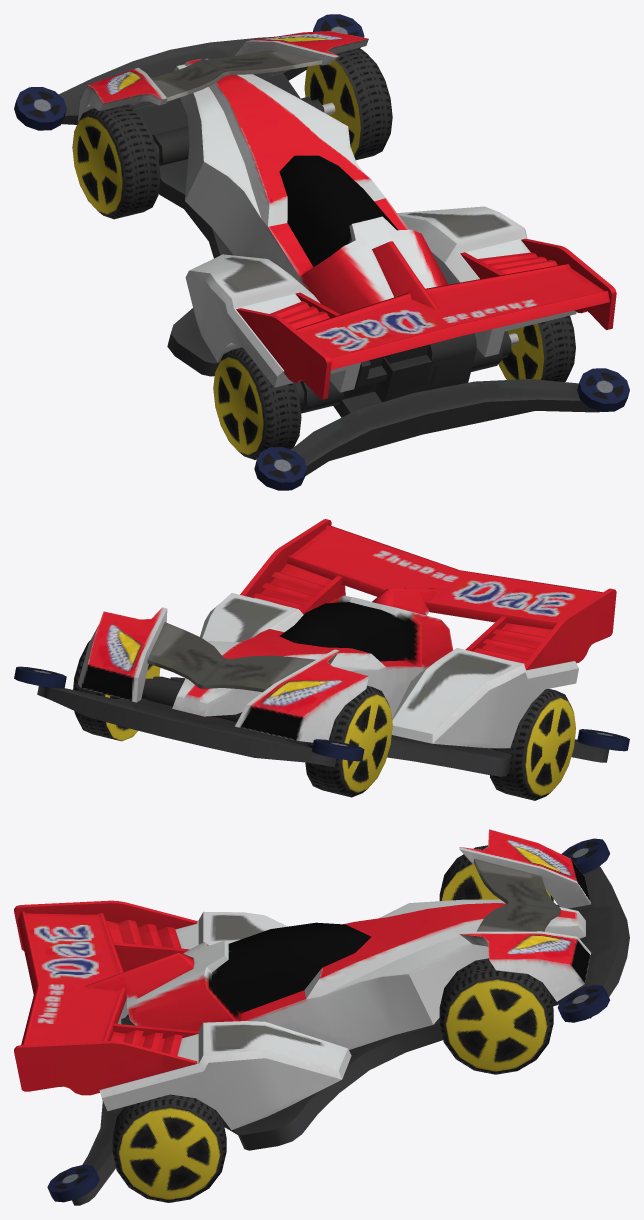
Rendered from ref_gtracecar.glb.
3 renders of one model, top to bottom at view 1: azimuth 30°, elevation 25°; view 2: azimuth 150°, elevation 25°; view 3: azimuth 270°, elevation 25°, orthographic.
Parts seen in each view (by area): view 1: ref_gtracecar; view 2: ref_gtracecar; view 3: ref_gtracecar.
Boxes of the visible parts, x1,y1,x2,y2 form: ref_gtracecar: (14,14,629,490); ref_gtracecar: (14,519,629,800); ref_gtracecar: (14,829,629,1205).
Bounding box in the file's own units: 0.6948 × 0.4269 × 1.
Materials: 1 (1 with a texture image).
